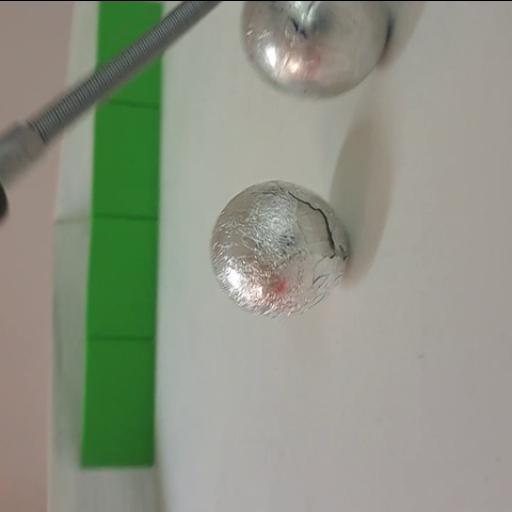alive: (209, 177, 351, 321), (239, 0, 393, 102)
